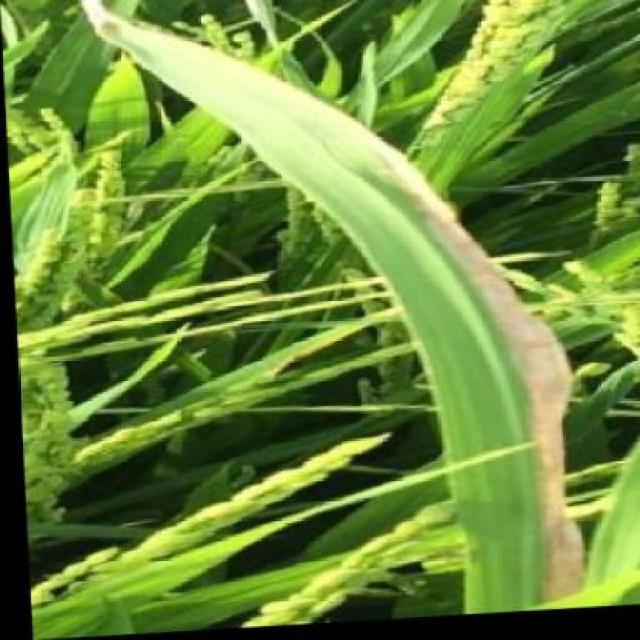Brown_Spot: (431, 260, 584, 615)
